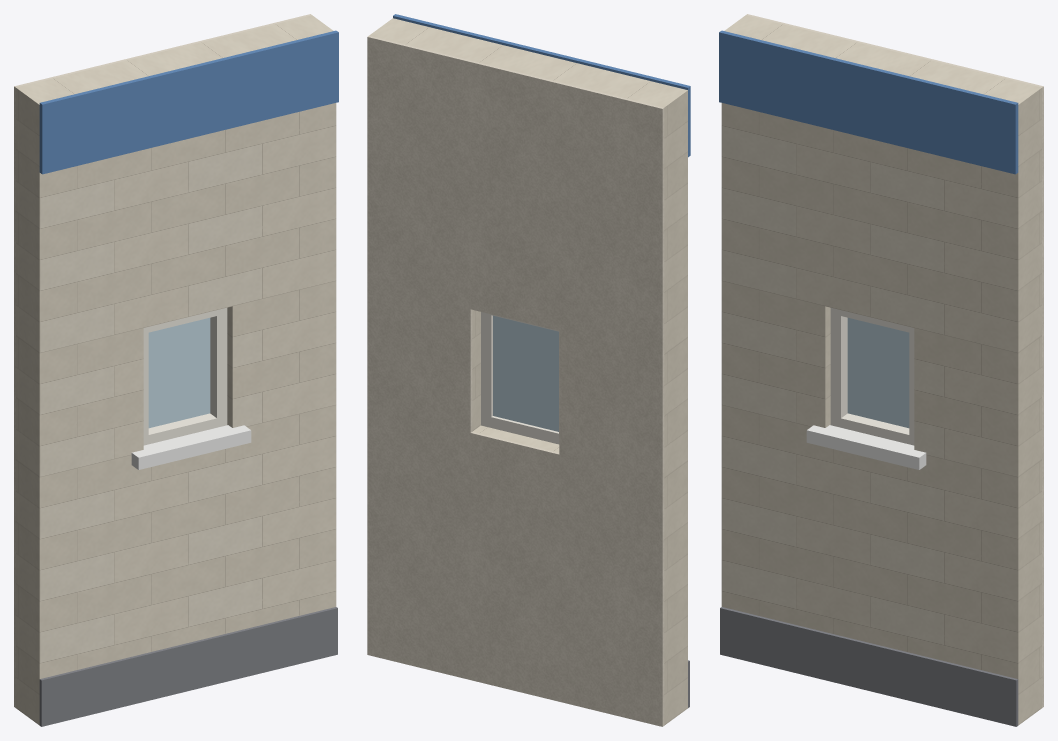
The model's file is wall_store_small_window.glb.
3 renders of one model, left to right at view 1: azimuth 30°, elevation 25°; view 2: azimuth 150°, elevation 25°; view 3: azimuth 330°, elevation 25°, orthographic.
Visible parts, largest first — view 1: wall_store_small_window_block, wall_store_small_window_band, wall_store_small_window_dark, wall_store_small_window_glass, wall_store_small_window_frame, wall_store_small_window_trim, wall_store_small_window_plaster; view 2: wall_store_small_window_plaster, wall_store_small_window_block, wall_store_small_window_glass, wall_store_small_window_frame, wall_store_small_window_band; view 3: wall_store_small_window_block, wall_store_small_window_band, wall_store_small_window_dark, wall_store_small_window_glass, wall_store_small_window_frame, wall_store_small_window_trim, wall_store_small_window_plaster.
Part boxes in pixels (<box>): wall_store_small_window_block: <box>16,15,336,725</box>; wall_store_small_window_band: <box>39,30,338,174</box>; wall_store_small_window_dark: <box>39,607,337,726</box>; wall_store_small_window_glass: <box>148,317,210,428</box>; wall_store_small_window_frame: <box>143,307,227,445</box>; wall_store_small_window_trim: <box>131,425,251,469</box>; wall_store_small_window_plaster: <box>14,14,311,707</box>; wall_store_small_window_plaster: <box>367,35,664,726</box>; wall_store_small_window_block: <box>369,18,687,725</box>; wall_store_small_window_glass: <box>493,315,558,431</box>; wall_store_small_window_frame: <box>481,312,559,444</box>; wall_store_small_window_band: <box>393,14,690,157</box>; wall_store_small_window_block: <box>721,15,1041,725</box>; wall_store_small_window_band: <box>719,30,1018,174</box>; wall_store_small_window_dark: <box>720,607,1018,726</box>; wall_store_small_window_glass: <box>847,317,909,428</box>; wall_store_small_window_frame: <box>830,307,914,445</box>; wall_store_small_window_trim: <box>806,425,926,469</box>; wall_store_small_window_plaster: <box>746,14,1043,707</box>.
Bounding box in the file's own units: 2 × 4.01 × 0.38.
Materials: 7 (2 with a texture image).
